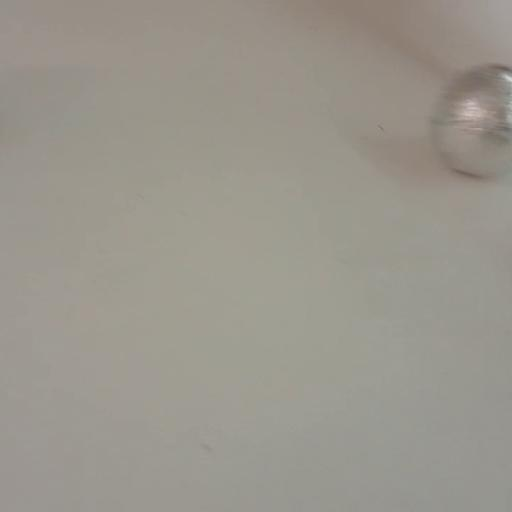alive: (427, 64, 512, 177)
